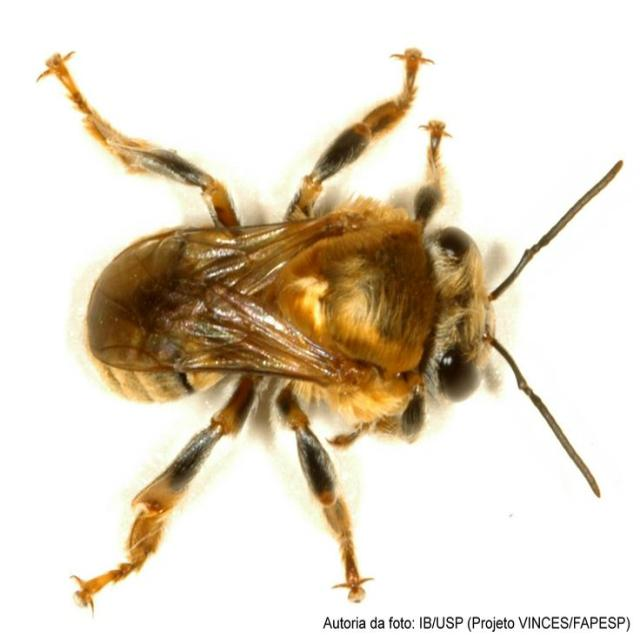Meliponula: (31, 34, 633, 611)
